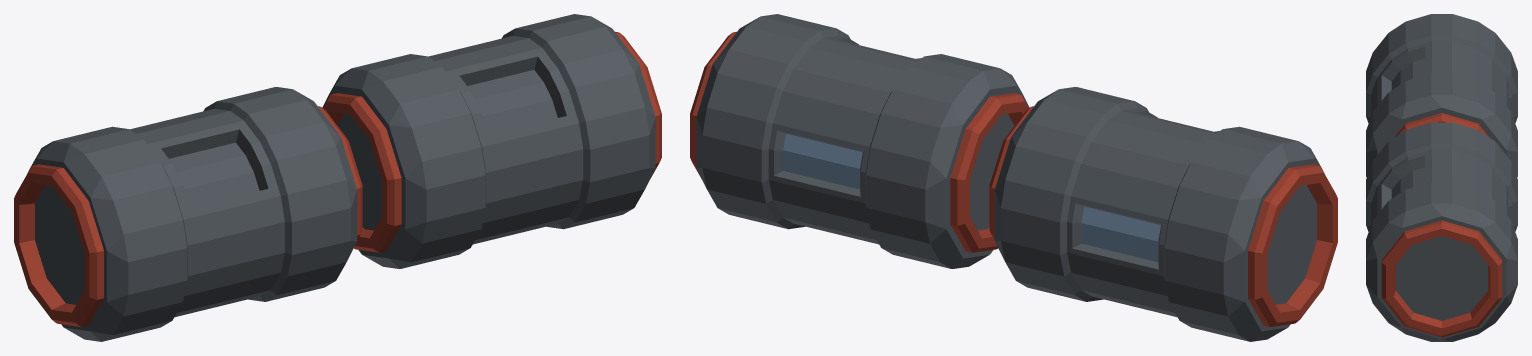
The model's file is Dropship_01_Tank_Red.fbx.
The picture shows the model from 3 angles, left to right: view 1: azimuth 30°, elevation 25°; view 2: azimuth 150°, elevation 25°; view 3: azimuth 270°, elevation 25°; orthographic projection. The views are drawn at different scales.
Visible parts, largest first — view 1: Dropship_01_Tank_Red; view 2: Dropship_01_Tank_Red; view 3: Dropship_01_Tank_Red.
Boxes of the visible parts, box(x1,y1,x2,y2) form: Dropship_01_Tank_Red: box(14, 14, 661, 341); Dropship_01_Tank_Red: box(690, 14, 1337, 341); Dropship_01_Tank_Red: box(1366, 14, 1517, 341).
Size of the model in its own units: 867 by 268 by 267.
2 materials, 2 textured.
